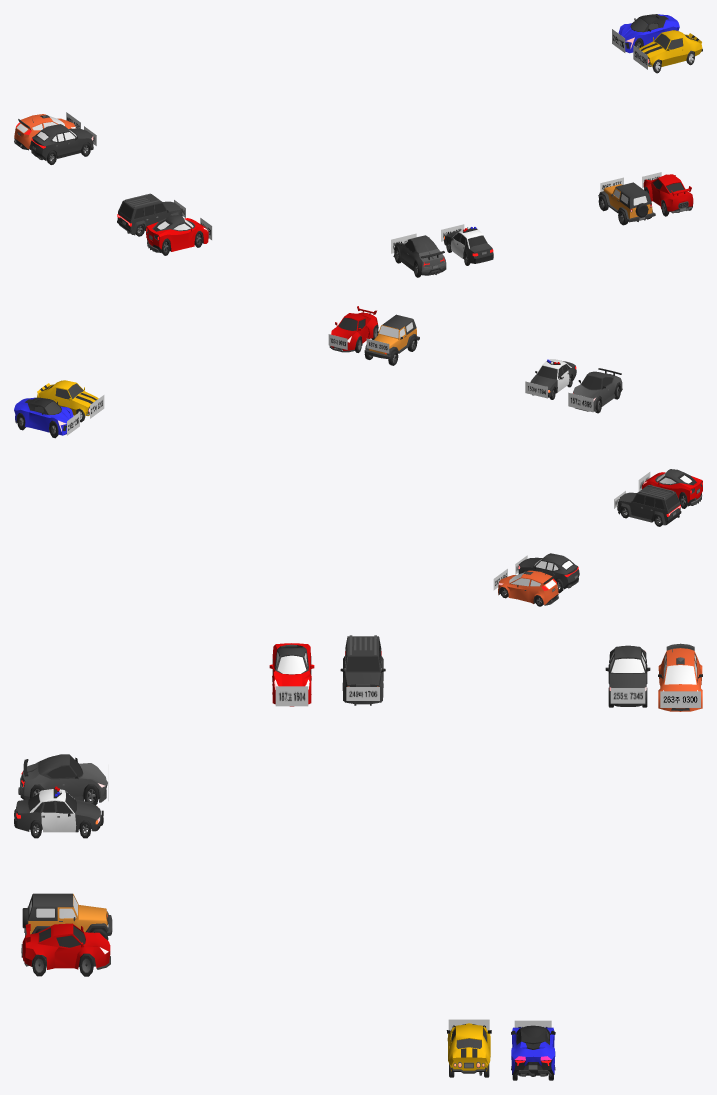
Rendered from cars.glb.
3 renders of one model, top to bottom at view 1: azimuth 30°, elevation 25°; view 2: azimuth 150°, elevation 25°; view 3: azimuth 270°, elevation 25°, orthographic. The views are drawn at different scales.
Visible parts, largest first — view 1: RedCar2, BlackCar3, BlackCar2, YellowCar, OrangeCar1, BlackCar1, RedCar1, BlueCar, PoliceCar1, OrangeCar2; view 2: BlackCar2, BlueCar, OrangeCar2, OrangeCar1, RedCar1, BlackCar1, BlackCar3, RedCar2, YellowCar, PoliceCar1; view 3: RedCar1, PoliceCar1, BlackCar1, OrangeCar1, BlackCar2, BlueCar, YellowCar, OrangeCar2, RedCar2, BlackCar3, plate_187_go_1604, plate_263_ju_0300.
Boxes of the visible parts, bbox=[...] form: RedCar2: bbox=[146, 215, 208, 255]; BlackCar3: bbox=[30, 124, 93, 164]; BlackCar2: bbox=[117, 193, 182, 236]; YellowCar: bbox=[639, 30, 702, 73]; OrangeCar1: bbox=[598, 182, 655, 225]; BlackCar1: bbox=[393, 235, 446, 277]; RedCar1: bbox=[643, 174, 693, 216]; BlueCar: bbox=[618, 14, 679, 53]; PoliceCar1: bbox=[444, 227, 493, 265]; OrangeCar2: bbox=[14, 114, 75, 150]; BlackCar2: bbox=[617, 485, 681, 526]; BlueCar: bbox=[14, 397, 73, 438]; OrangeCar2: bbox=[498, 570, 558, 606]; OrangeCar1: bbox=[364, 314, 419, 365]; RedCar1: bbox=[329, 306, 378, 352]; BlackCar1: bbox=[572, 368, 622, 413]; BlackCar3: bbox=[518, 553, 579, 593]; RedCar2: bbox=[642, 469, 702, 508]; YellowCar: bbox=[37, 380, 98, 422]; PoliceCar1: bbox=[530, 359, 576, 399]; RedCar1: bbox=[21, 923, 110, 976]; PoliceCar1: bbox=[14, 786, 103, 838]; BlackCar1: bbox=[18, 754, 107, 805]; OrangeCar1: bbox=[22, 893, 112, 940]; BlackCar2: bbox=[340, 635, 385, 705]; BlueCar: bbox=[511, 1025, 555, 1080]; YellowCar: bbox=[446, 1023, 491, 1077]; OrangeCar2: bbox=[658, 643, 702, 711]; RedCar2: bbox=[269, 643, 314, 706]; BlackCar3: bbox=[605, 645, 650, 707]; plate_187_go_1604: bbox=[275, 686, 308, 706]; plate_263_ju_0300: bbox=[660, 691, 700, 707].
Size of the model in its own units: 1.09 by 0.0506 by 0.7679.
Materials: 13 (13 with a texture image).
